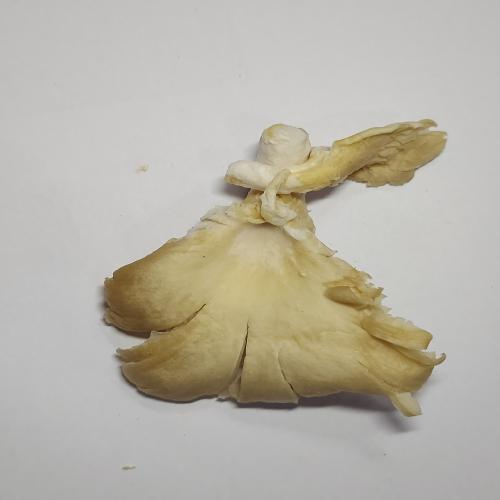Oyster Mushroom: (104, 119, 446, 416)
